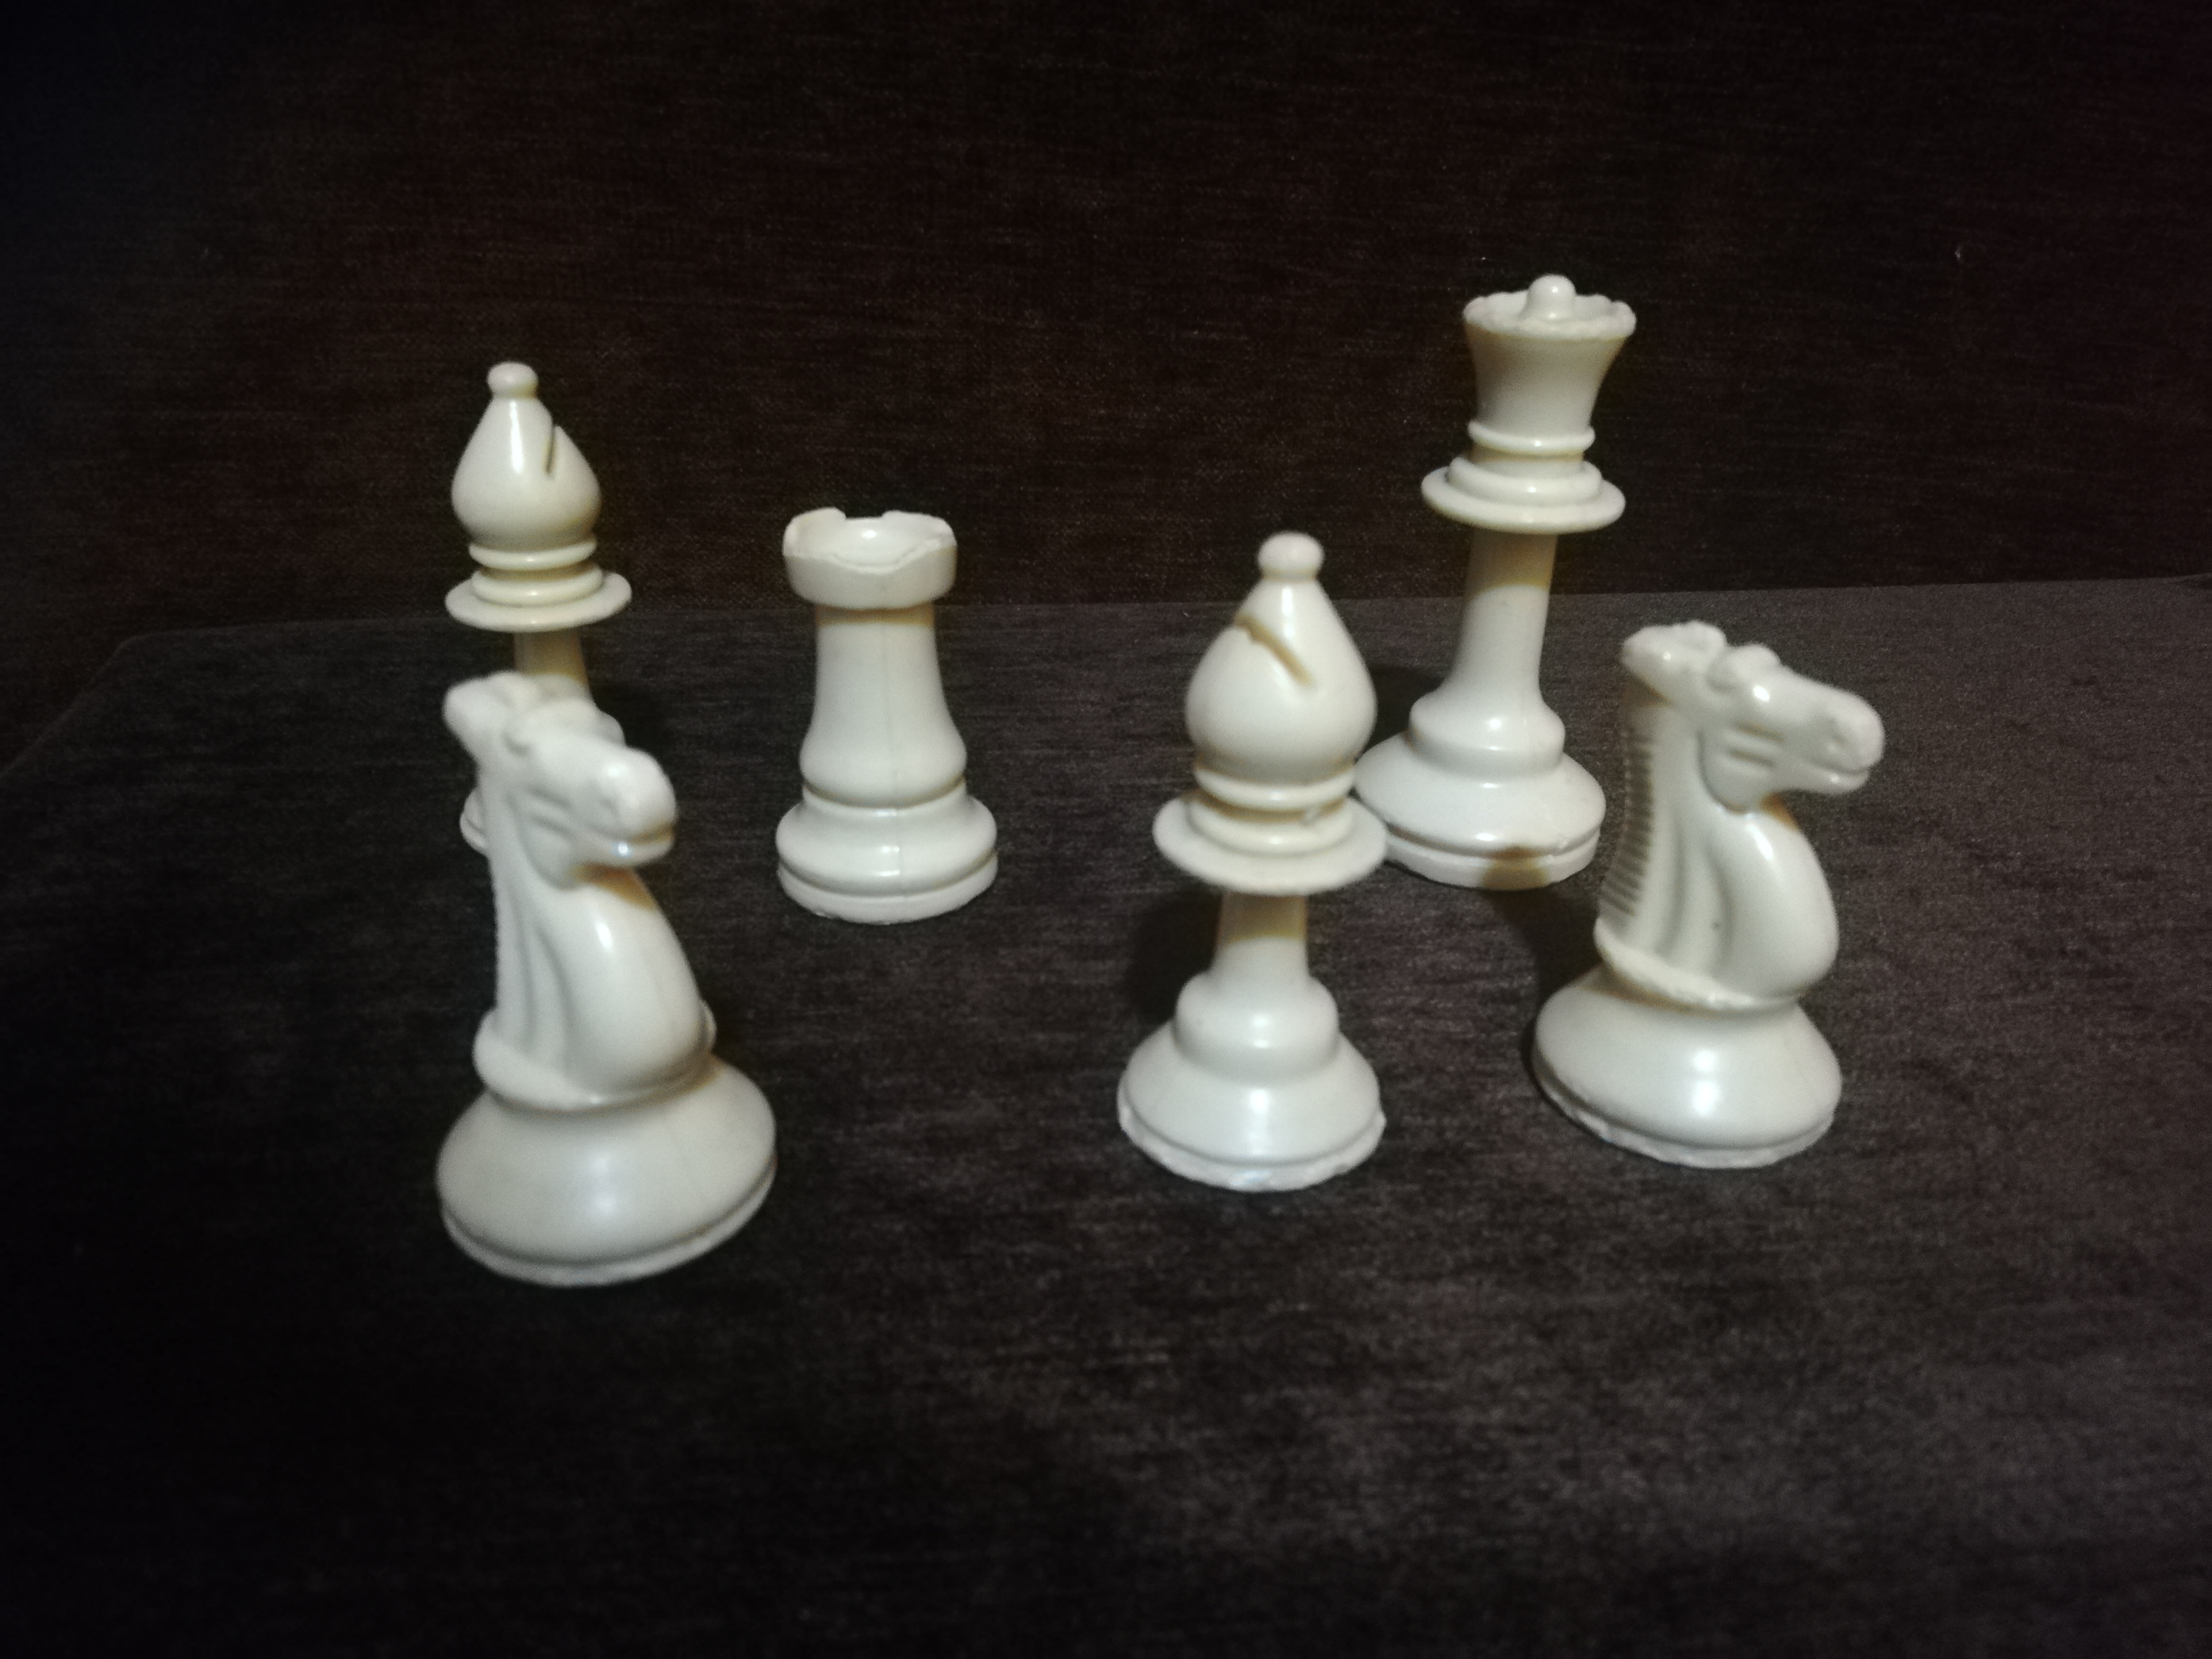Bishop: (1116, 520, 1411, 1201), (415, 356, 676, 661)
Knight: (378, 676, 801, 1272), (1548, 605, 1892, 1162)
Queen: (1398, 264, 1608, 879)
Rook: (762, 492, 1025, 932)
